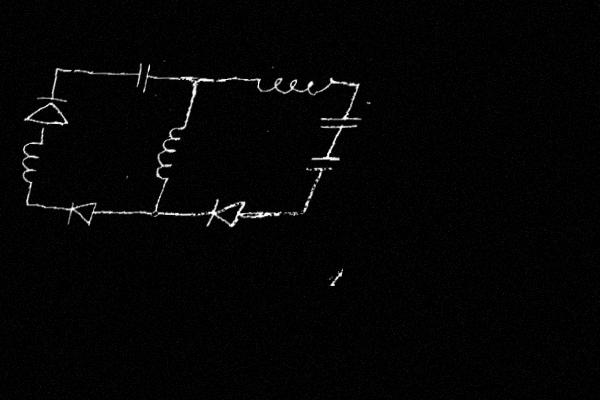capacitor: (314, 110, 366, 135), (301, 150, 347, 178), (128, 60, 157, 97)
diode: (16, 92, 78, 137), (199, 194, 255, 231), (58, 198, 106, 230)
inductor: (150, 114, 195, 187), (245, 70, 349, 100), (11, 135, 51, 193)
